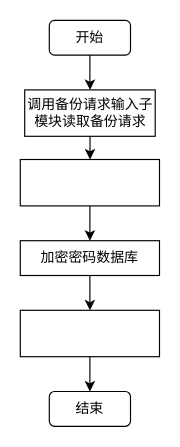
This 180x447 diagram has some shape labels left out. Here are the shapes that lost their labels. From the top down, the box of each, then its label:
(19, 158, 160, 206): 调用数据备份操作模块进行备份
(19, 309, 160, 357): 调用备份数据输出模块输出备份数据
